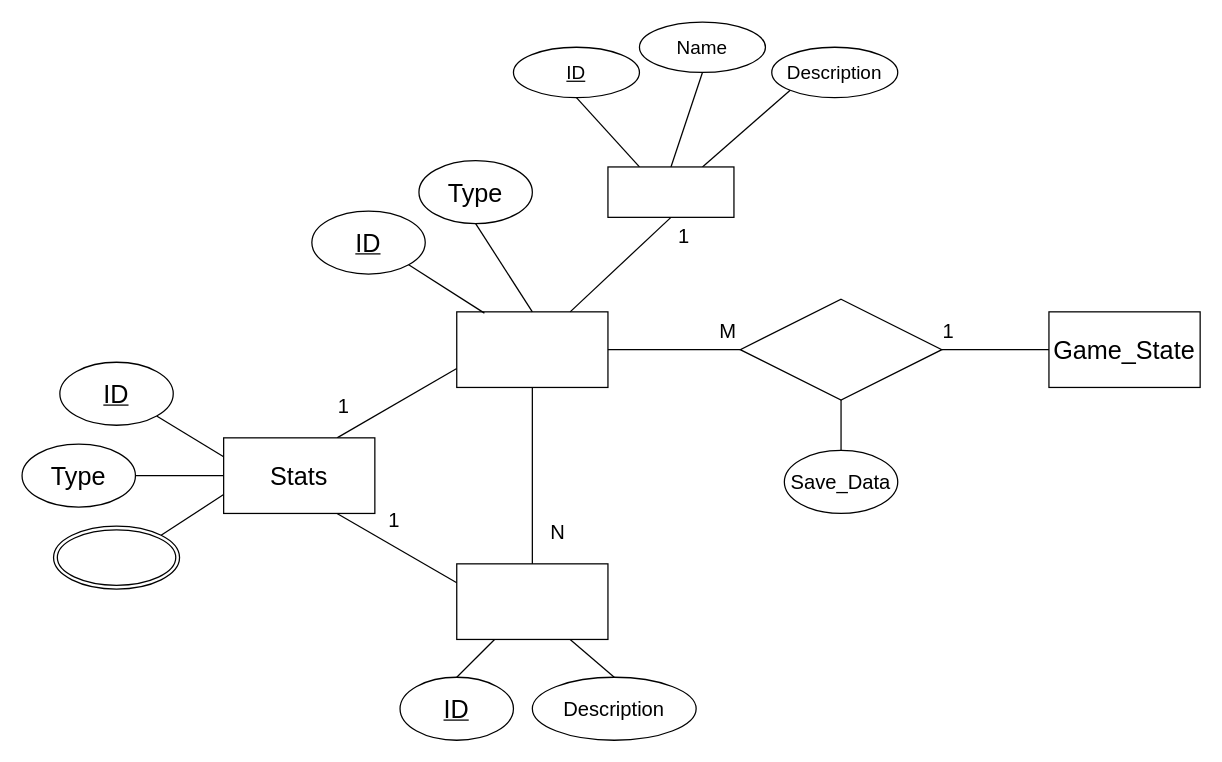
Some shapes in this 1222 by 762 pixel diagram are drawn without their labels. Here are the shapes that lost their labels. From the top down, the centre of each, then its label:
[670,191]: Location
[531,349]: Character
[840,349]: Player-Game
[116,557]: Stat_Data
[531,601]: Items
